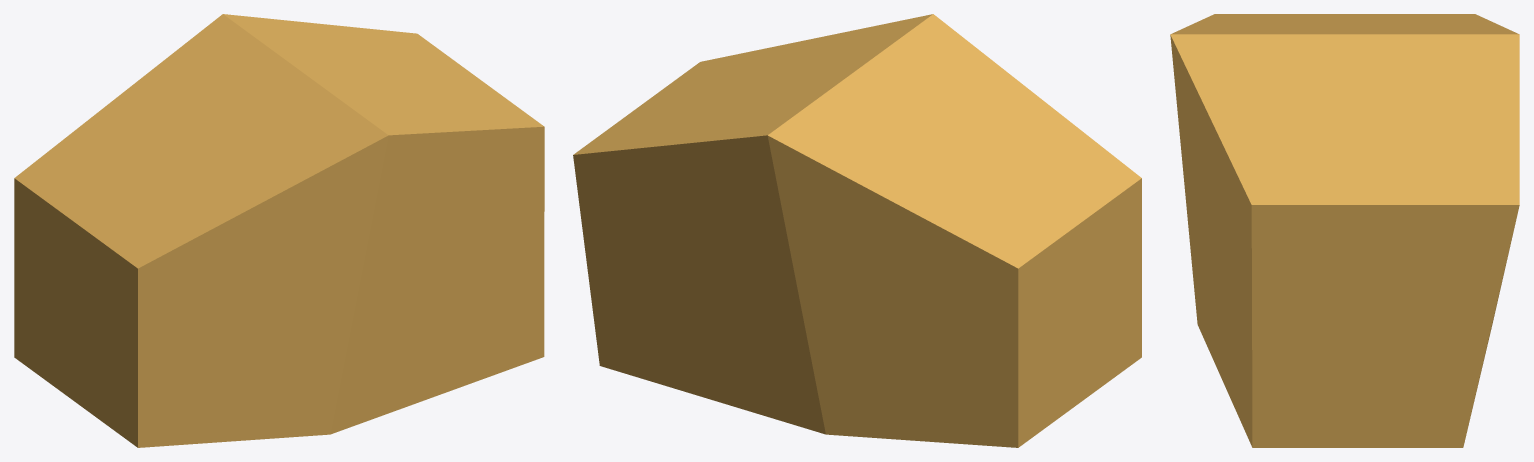
Rendered from gold_nugget_1.fbx.
3 views of the same model, side by side, from view 1: azimuth 30°, elevation 25°; view 2: azimuth 150°, elevation 25°; view 3: azimuth 270°, elevation 25° (orthographic). The views are drawn at different scales.
Visible parts, largest first — view 1: pCube61; view 2: pCube61; view 3: pCube61.
Part boxes in pixels (x1=…): pCube61: x1=14, y1=14, x2=544, y2=447; pCube61: x1=573, y1=14, x2=1141, y2=447; pCube61: x1=1170, y1=14, x2=1519, y2=447.
Size of the model in its own units: 1.93 by 1.29 by 1.3.
